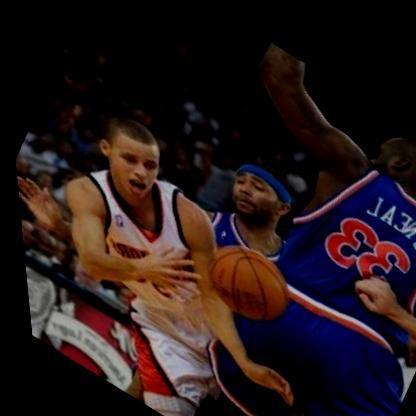basketball: (196, 227, 290, 323)
